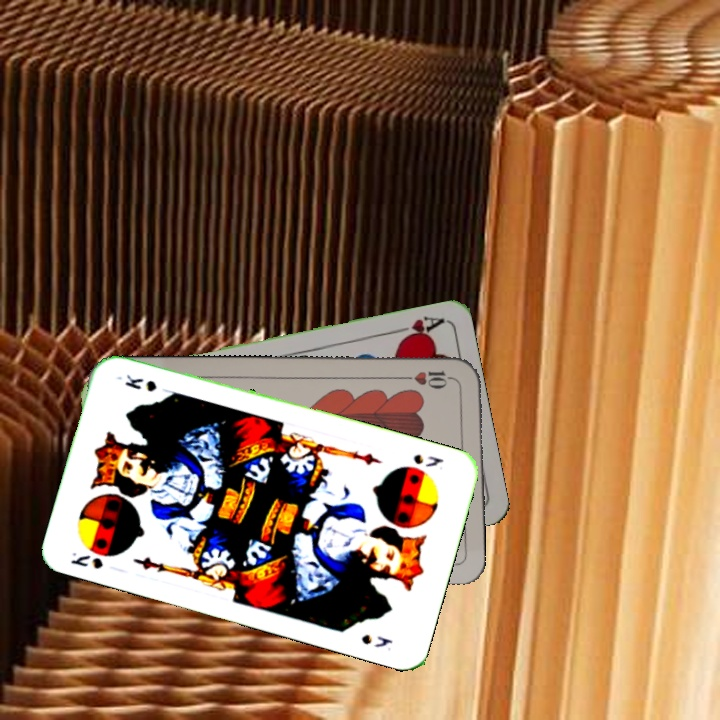H10: (399, 367, 458, 390)
HA: (387, 312, 446, 345)
SK: (66, 548, 106, 572), (409, 450, 446, 470)
